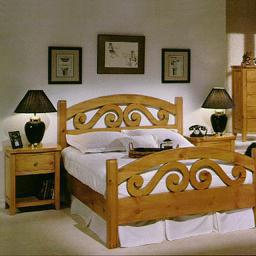Cama: (61, 98, 251, 241)
